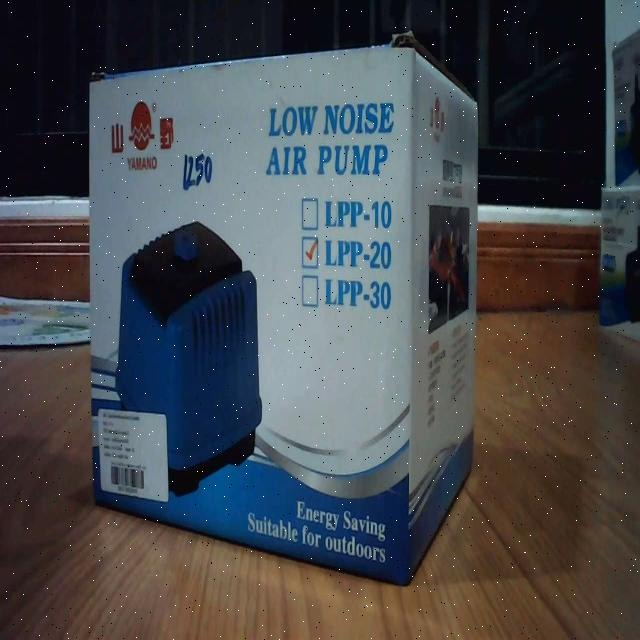YAMANO_LPP_20: (74, 25, 492, 598)
